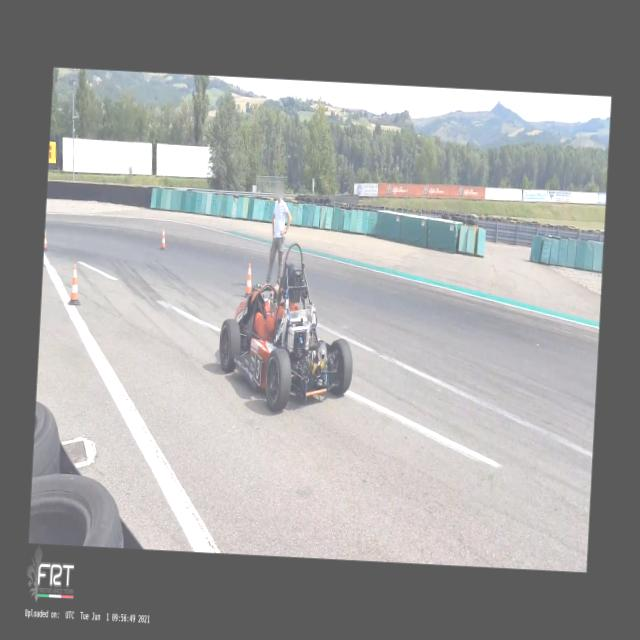large_orange_cone: (68, 264, 82, 306), (244, 263, 253, 298), (159, 228, 168, 250), (44, 228, 50, 252)
